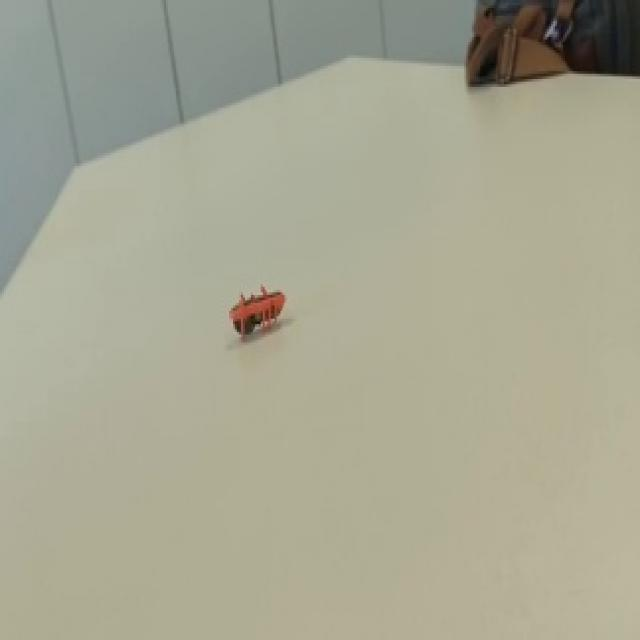7_NanoBug_Naranja: (224, 279, 304, 351)
